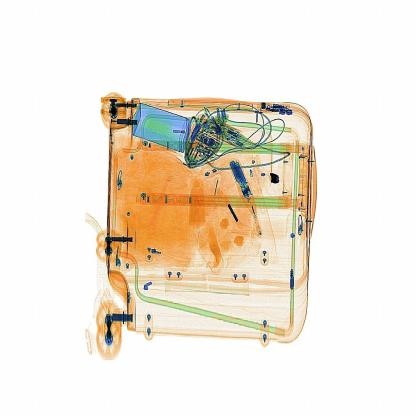wrench: (261, 168, 289, 192)
